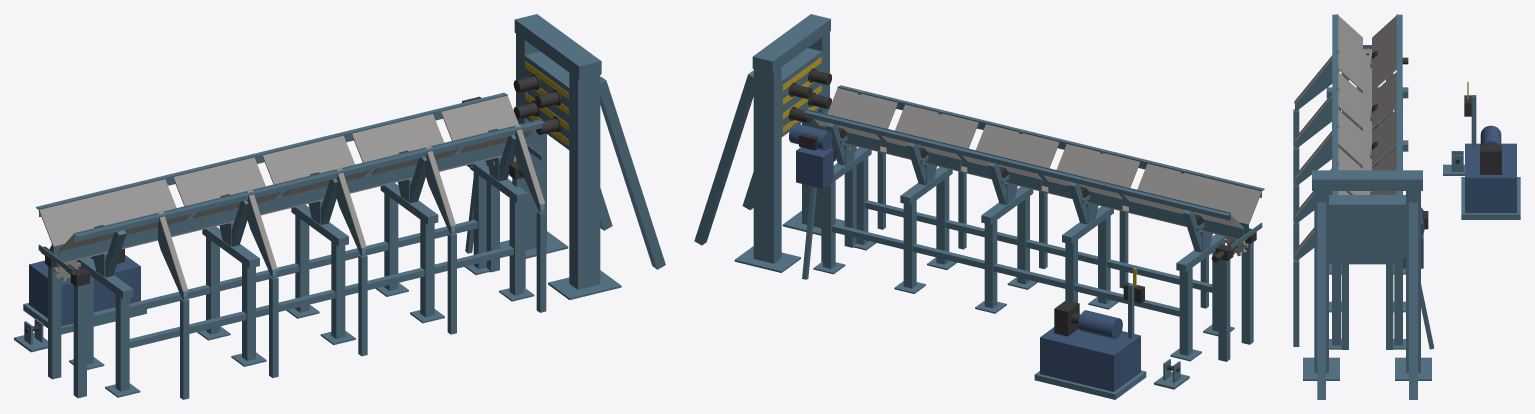
The model's file is log_kicker_frame.glb.
3 views of the same model, side by side, from view 1: azimuth 30°, elevation 25°; view 2: azimuth 150°, elevation 25°; view 3: azimuth 270°, elevation 25° (orthographic). The views are drawn at different scales.
Parts seen in each view (by area): view 1: LK_FrameMesh; view 2: LK_FrameMesh; view 3: LK_FrameMesh.
Part boxes in pixels (x1,y1,x2,y2): LK_FrameMesh: (14,14,665,399); LK_FrameMesh: (694,14,1264,399); LK_FrameMesh: (1293,14,1520,399).
Bounding box in the file's own units: 7.83 × 2.91 × 3.07.
